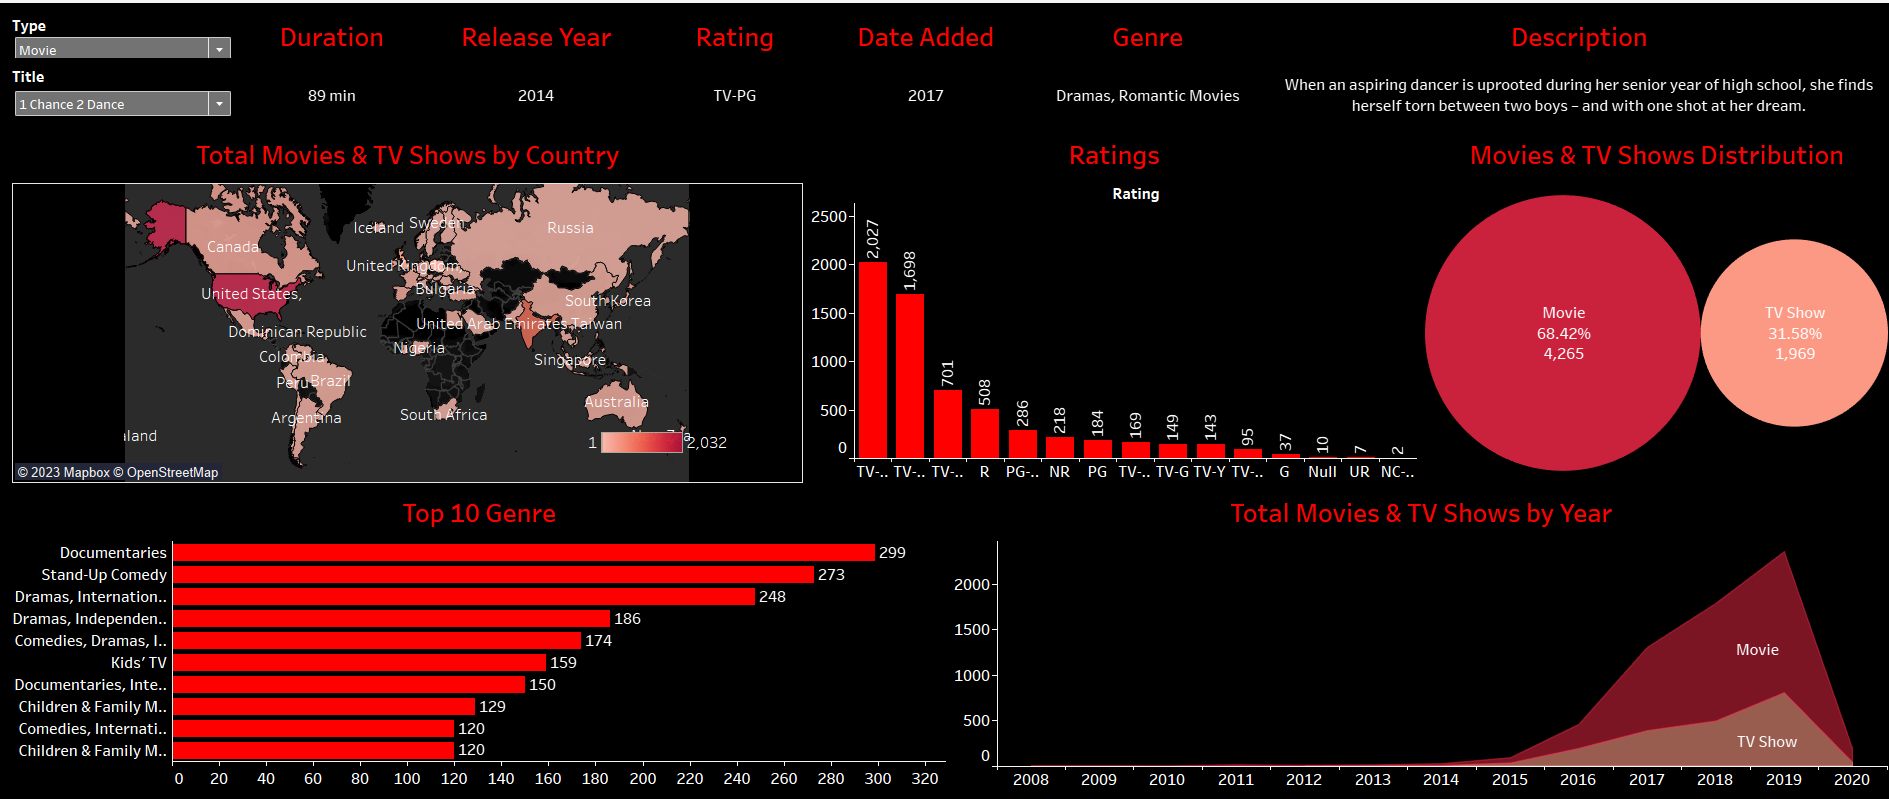

Layout of this report page (visuals, bound fields, positions):
{"tool":"tableau","page":{"name":"NetFlix","canvas":[1900,800],"ordinal":0},"visuals":[{"type":"filter","title":"Description","param":"[federated.07raprq1gqx7t41346shm0dyx1iv].[none:type:nk]","box":[8,8,185.6,42.5]},{"type":"worksheet","title":"Rating1","mark":"Automatic","box":[193.6,8,285.4,90]},{"type":"worksheet","title":"Duration","mark":"Automatic","box":[479,8,235.5,90]},{"type":"worksheet","title":"Genre","mark":"Automatic","cols":["release_year"],"box":[714.5,8,235.5,90]},{"type":"worksheet","title":"Release Year","mark":"Automatic","cols":["release_year"],"box":[950,8,471,90]},{"type":"worksheet","title":"Description","mark":"Automatic","box":[1421,8,471,90]},{"type":"filter","title":"Description","param":"[federated.07raprq1gqx7t41346shm0dyx1iv].[none:title:nk]","box":[8,50.5,185.6,47.5]},{"type":"worksheet","title":"Total Movies & TV Shows by Country","mark":"Multipolygon","box":[8,98,799.3,373.6]},{"type":"worksheet","title":"Ratings","mark":"Automatic","rows":["show_id"],"cols":["rating"],"box":[807.3,98,613.7,373.6]},{"type":"worksheet","title":"Movies & TV Shows Distribution","mark":"Circle","box":[1421,98,471,373.6]},{"type":"legend","title":"Total Movies & TV Shows by Country","param":"[federated.07raprq1gqx7t41346shm0dyx1iv].[ctd:show_id:qk]","box":[583.7,425,147.8,39]},{"type":"worksheet","title":"Top 10 Genre","mark":"Automatic","rows":["listed_in"],"cols":["show_id"],"box":[8,471.6,942,320.4]},{"type":"worksheet","title":"Total Movies & TV Shows by Year","mark":"Area","rows":["show_id"],"cols":["date_added"],"box":[950,471.6,942,320.4]}]}

Visuals, with their boxes in screenshot pixels (x1, y1, x2, y2), scaled from the page's 1900x800 canvas onto the 1889x799 screenshot:
"Description" filter: locate(8, 8, 192, 50)
"Rating1" worksheet: locate(192, 8, 476, 98)
"Duration" worksheet: locate(476, 8, 710, 98)
"Genre" worksheet: locate(710, 8, 944, 98)
"Release Year" worksheet: locate(944, 8, 1413, 98)
"Description" worksheet: locate(1413, 8, 1881, 98)
"Description" filter: locate(8, 50, 192, 98)
"Total Movies & TV Shows by Country" worksheet (Multipolygon marks): locate(8, 98, 803, 471)
"Ratings" worksheet: locate(803, 98, 1413, 471)
"Movies & TV Shows Distribution" worksheet (Circle marks): locate(1413, 98, 1881, 471)
"Total Movies & TV Shows by Country" legend: locate(580, 424, 727, 463)
"Top 10 Genre" worksheet: locate(8, 471, 944, 791)
"Total Movies & TV Shows by Year" worksheet (Area marks): locate(944, 471, 1881, 791)
